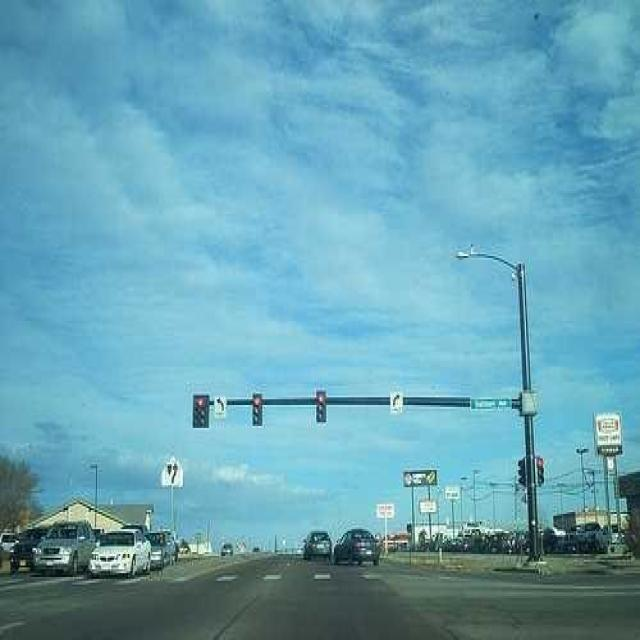Traffic Light -Red-: (192, 393, 207, 428), (252, 394, 264, 426), (316, 390, 328, 422), (536, 454, 546, 488)
